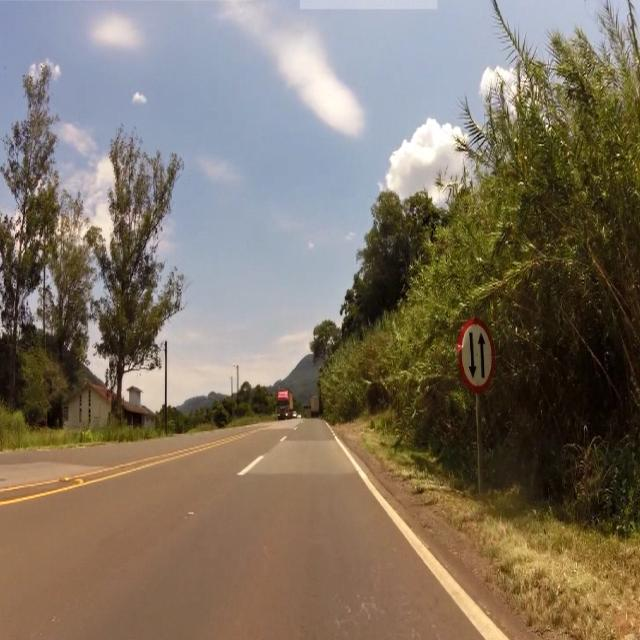R-28: (456, 313, 498, 398)
